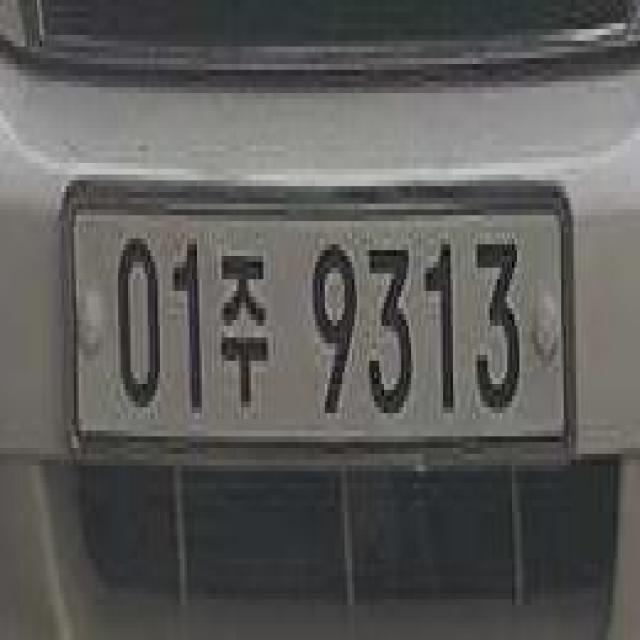illegal_plate: (69, 165, 563, 487)
